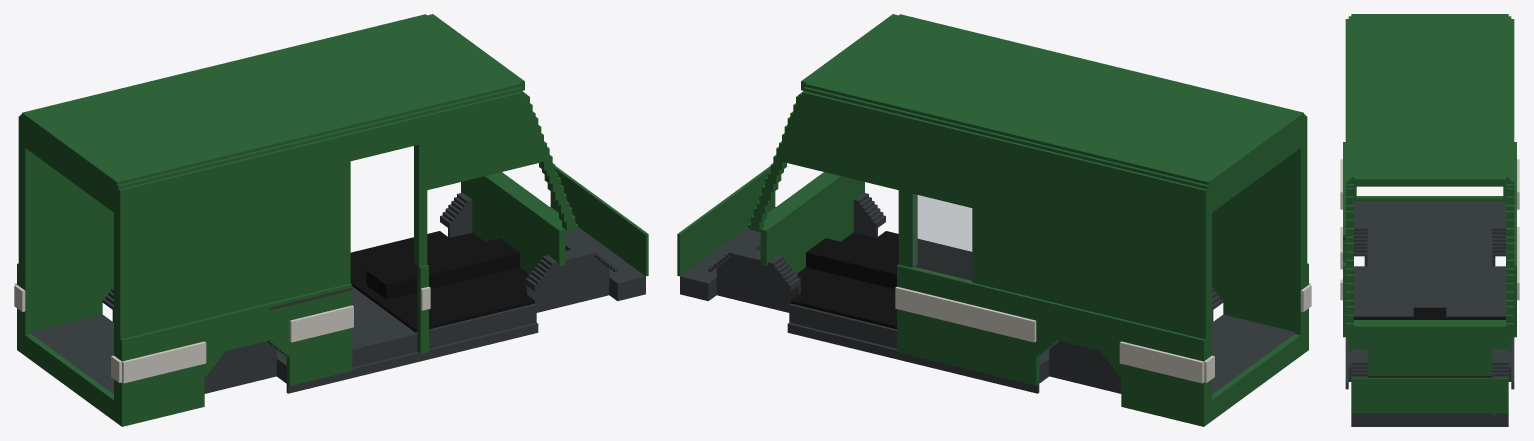
The model's file is step_van_shell.glb.
3 views of the same model, side by side, from view 1: azimuth 30°, elevation 25°; view 2: azimuth 150°, elevation 25°; view 3: azimuth 270°, elevation 25° (orthographic). The views are drawn at different scales.
Visible parts, largest first — view 1: body:compound; view 2: body:compound; view 3: body:compound.
Boxes of the visible parts, x1,y1,x2,y2 form: body:compound: [14, 14, 648, 426]; body:compound: [677, 14, 1311, 426]; body:compound: [1340, 14, 1519, 426].
Bounding box in the file's own units: 5.88 × 2.62 × 2.06.
